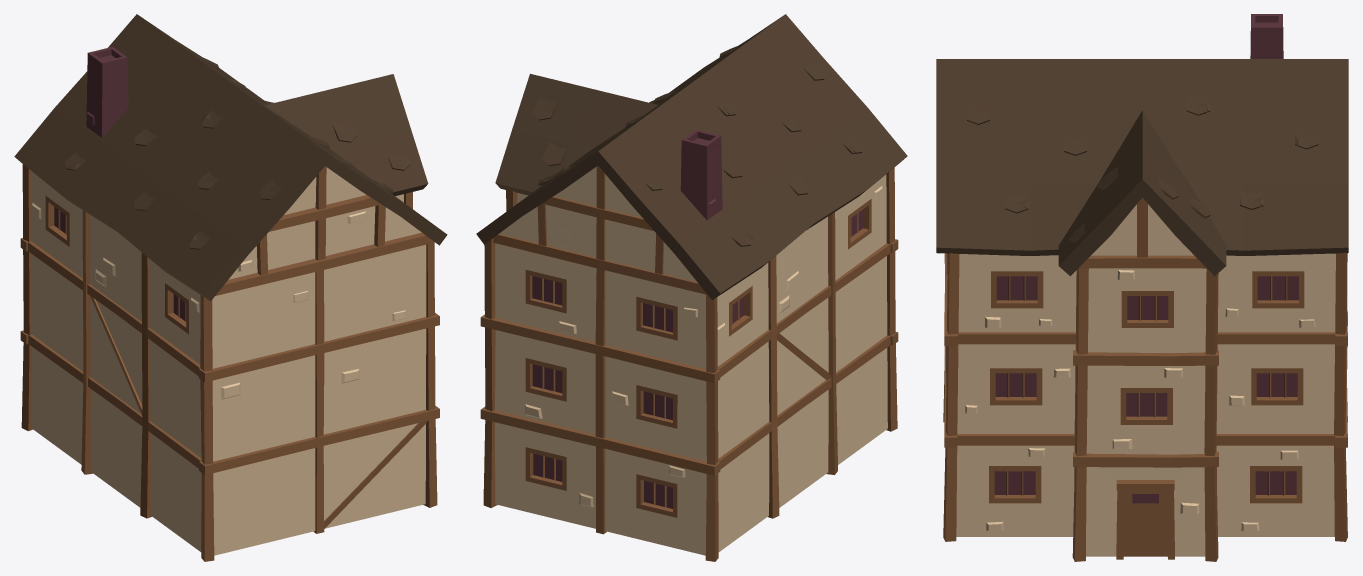
File: medieval-house-medieval-large.glb
The picture shows the model from 3 angles, left to right: view 1: azimuth 30°, elevation 25°; view 2: azimuth 150°, elevation 25°; view 3: azimuth 270°, elevation 25°; orthographic projection. The views are drawn at different scales.
Parts seen in each view (by area): view 1: house-medieval-large; view 2: house-medieval-large; view 3: house-medieval-large.
Part boxes in pixels (x1=…): house-medieval-large: x1=14, y1=14, x2=447, y2=561; house-medieval-large: x1=476, y1=14, x2=907, y2=561; house-medieval-large: x1=936, y1=14, x2=1348, y2=561.
Bounding box in the file's own units: 8.17 × 10.54 × 9.28.
